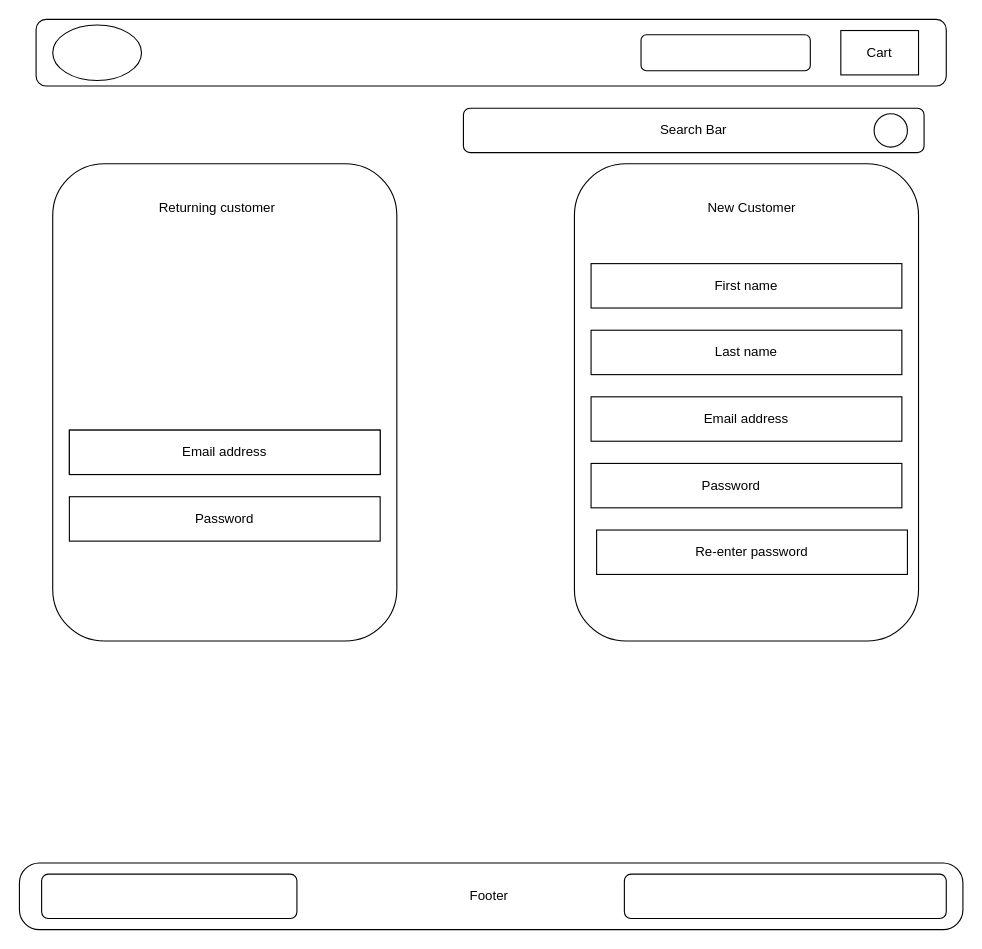
This 982x949 diagram has some shape labels left out. The centre of each missing label's shape, as x and y in pixels:
Blog Policies: pixel 784 896
Logo: pixel 97 52
mag glass: pixel 890 130
Sign out: pixel 725 52
Subscribe: pixel 169 896
